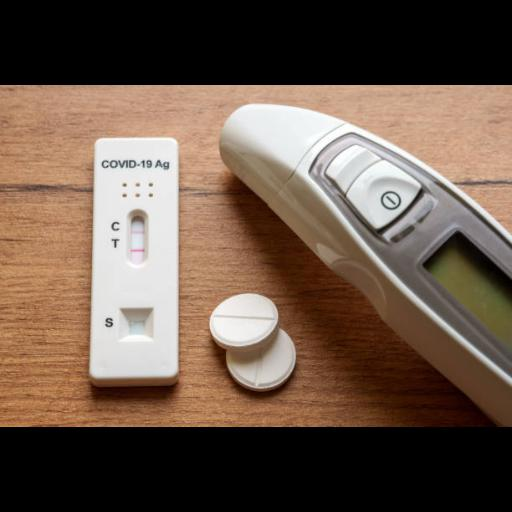Pos: (92, 135, 180, 375)
